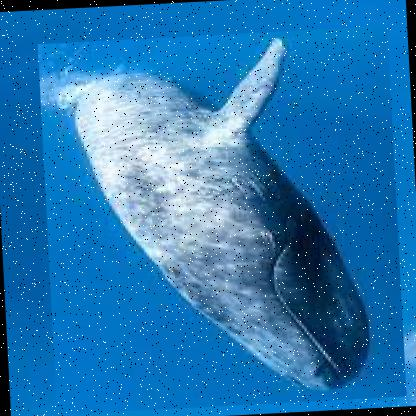blue_whale: (36, 24, 406, 414)
